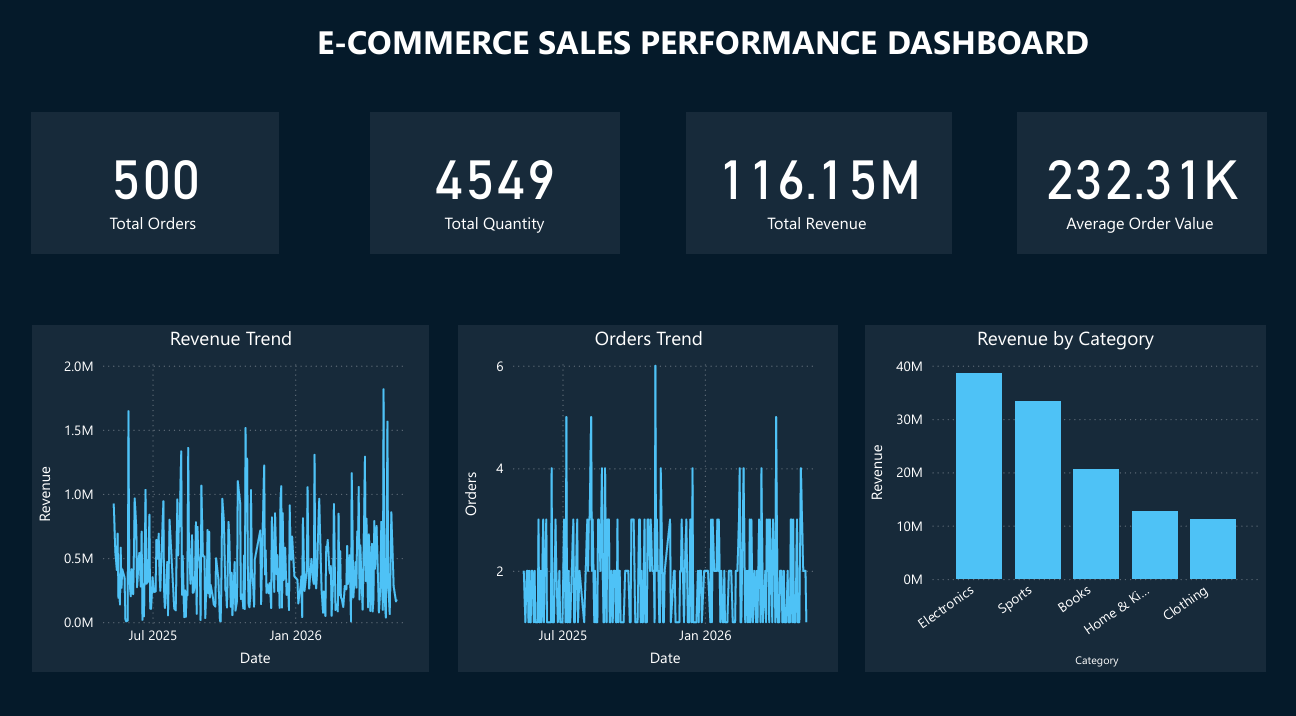

This screenshot's page, from the dashboard's own definition file:
{"tool":"powerbi","page":{"name":"Sales Performance Dashboard","canvas":[1280,720],"ordinal":0},"visuals":[{"type":"card","fields":{"Values":["orders.Total Orders Measure"]},"box":[32.4,111.8,244.1,139.7],"z":0},{"type":"card","fields":{"Values":["orders.AOV Measure"]},"box":[1005.9,111.8,245.6,139.7],"z":1000},{"type":"card","fields":{"Values":["order_items.Total Quantity Measure"]},"box":[366.2,111.8,245.6,139.7],"z":2000},{"type":"lineChart","title":"Revenue Trend","fields":{"Y":["orders.Total Revenue Measure"],"Category":["orders.order_date"]},"box":[33,322.8,391.5,342],"z":3000},{"type":"card","fields":{"Values":["orders.Total Revenue Measure"]},"box":[679.4,111.8,261.8,139.7],"z":4000},{"type":"clusteredColumnChart","title":"Revenue by Category","fields":{"Category":["products.category"],"Y":["Sum(order_items.OrderValue)"]},"box":[855.8,322.8,395.6,342],"z":5000},{"type":"lineChart","title":"Orders Trend","fields":{"Category":["orders.order_date"],"Y":["orders.Total Orders Measure"]},"box":[454.7,322.8,375,342],"z":6000},{"type":"textbox","box":[269,14.5,834.9,56.7],"z":7000}]}

Visuals, with their boxes in screenshot pixels (x1, y1, x2, y2), scaled from the page's 1280x720 canvas onto the 1296x716 screenshot:
card - orders.Total Orders Measure: left=33, top=111, right=280, bottom=250
card - orders.AOV Measure: left=1018, top=111, right=1267, bottom=250
card - order_items.Total Quantity Measure: left=371, top=111, right=619, bottom=250
"Revenue Trend" lineChart: left=33, top=321, right=430, bottom=661
card - orders.Total Revenue Measure: left=688, top=111, right=953, bottom=250
"Revenue by Category" clusteredColumnChart: left=866, top=321, right=1267, bottom=661
"Orders Trend" lineChart: left=460, top=321, right=840, bottom=661
textbox: left=272, top=14, right=1118, bottom=71
